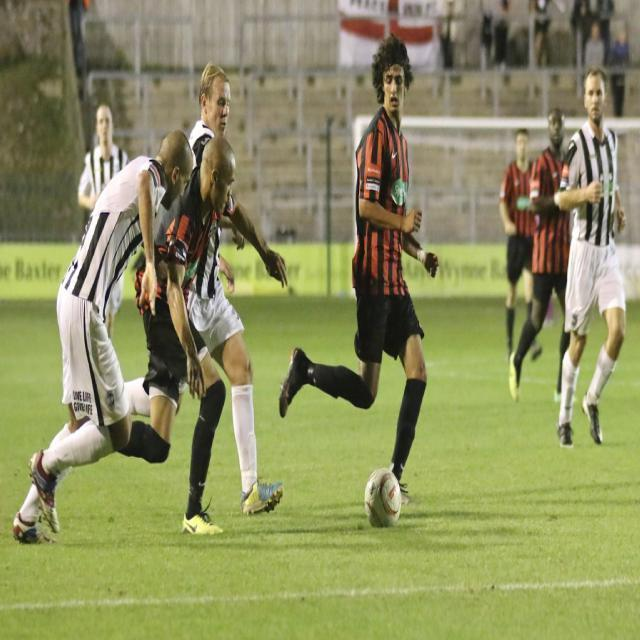ball: (364, 464, 401, 525)
